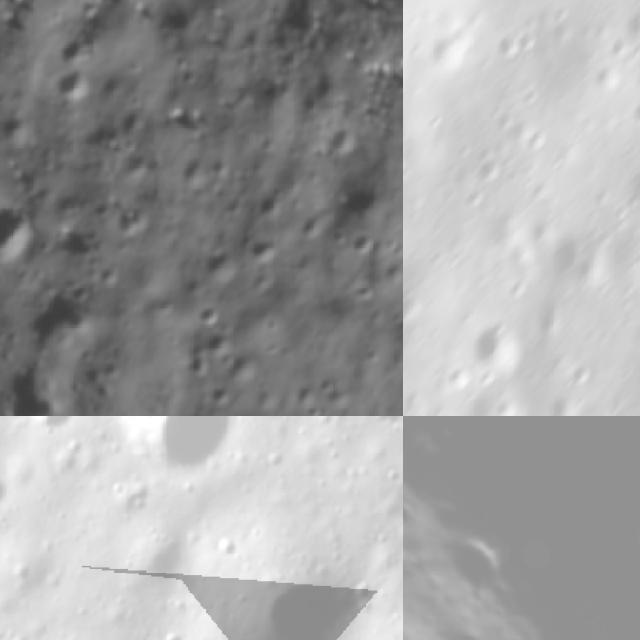crater: (221, 541, 373, 640), (100, 416, 249, 488), (430, 519, 522, 612), (104, 519, 198, 608), (20, 276, 110, 366), (0, 190, 39, 281), (546, 228, 604, 283), (312, 112, 364, 168), (41, 62, 94, 116), (471, 318, 522, 369), (195, 245, 243, 288), (11, 416, 82, 444), (241, 229, 283, 271), (54, 26, 94, 68), (190, 294, 231, 334), (178, 345, 217, 381), (0, 456, 21, 519), (346, 226, 381, 263), (384, 504, 403, 559), (492, 27, 520, 62), (403, 488, 424, 533), (595, 65, 626, 94), (629, 93, 640, 130)
